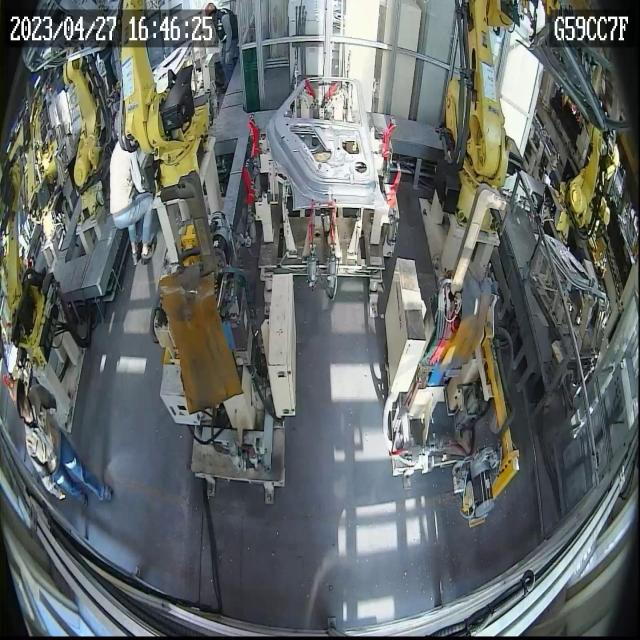Person: (6, 375, 116, 530), (109, 138, 157, 266), (205, 2, 233, 66)
